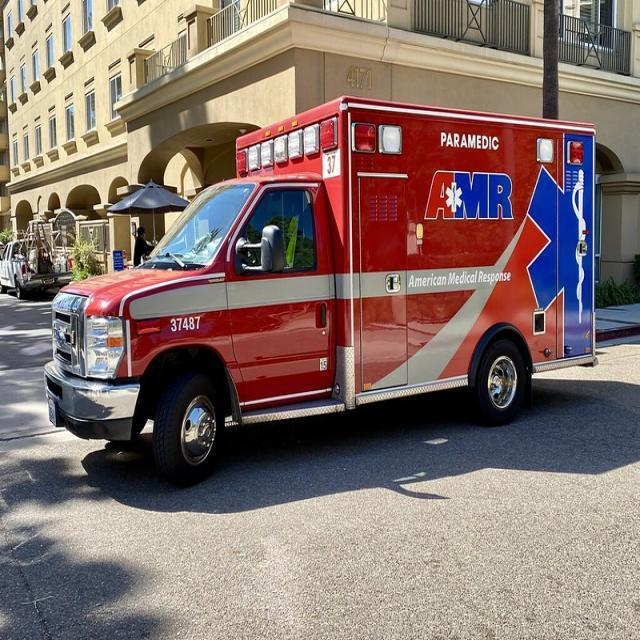emergency: (48, 99, 348, 485)
